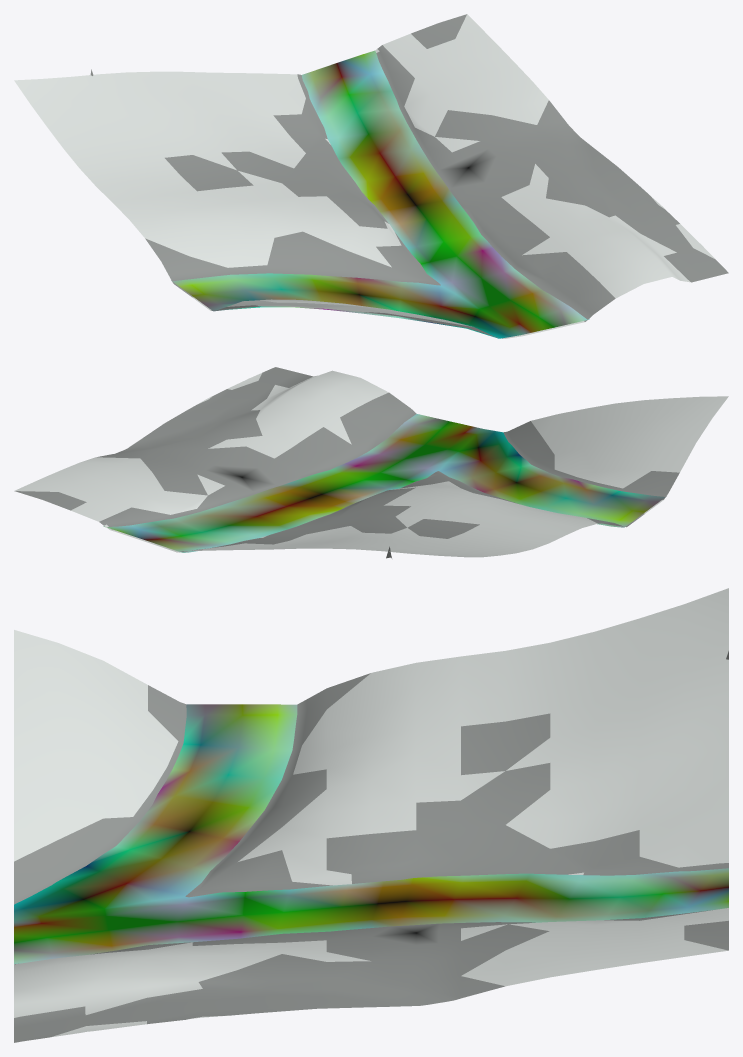
3 views of the same model, one above another, from view 1: azimuth 30°, elevation 25°; view 2: azimuth 150°, elevation 25°; view 3: azimuth 270°, elevation 25° (orthographic). The views are drawn at different scales.
Parts seen in each view (by area): view 1: G:\FFXIV-MapTools\exports\r1f1\bg\ffxiv\roc_r1\fld\r1f1\bgpl (×4); view 2: G:\FFXIV-MapTools\exports\r1f1\bg\ffxiv\roc_r1\fld\r1f1\bgpl (×5); view 3: G:\FFXIV-MapTools\exports\r1f1\bg\ffxiv\roc_r1\fld\r1f1\bgpl (×5).
Part boxes in pixels (box(x1,y1,x2,y2)): G:\FFXIV-MapTools\exports\r1f1\bg\ffxiv\roc_r1\fld\r1f1\bgpl (×4): box(14, 14, 728, 338); G:\FFXIV-MapTools\exports\r1f1\bg\ffxiv\roc_r1\fld\r1f1\bgpl (×5): box(14, 367, 728, 557); G:\FFXIV-MapTools\exports\r1f1\bg\ffxiv\roc_r1\fld\r1f1\bgpl (×5): box(14, 588, 728, 1042).
Bounding box in the file's own units: 128 × 33.93 × 128.
